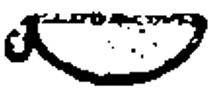Basket: (1, 11, 209, 90)
